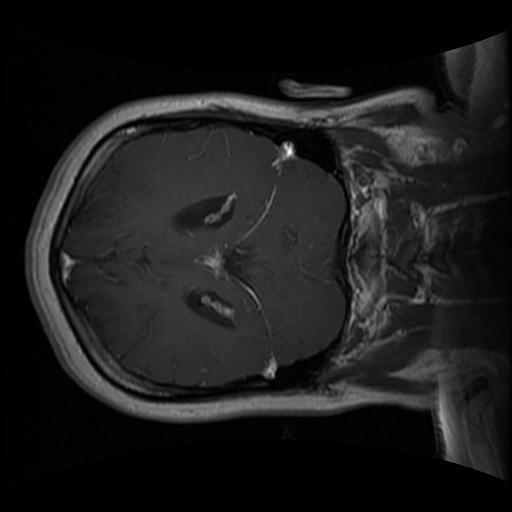glioma: (190, 238, 259, 292)
